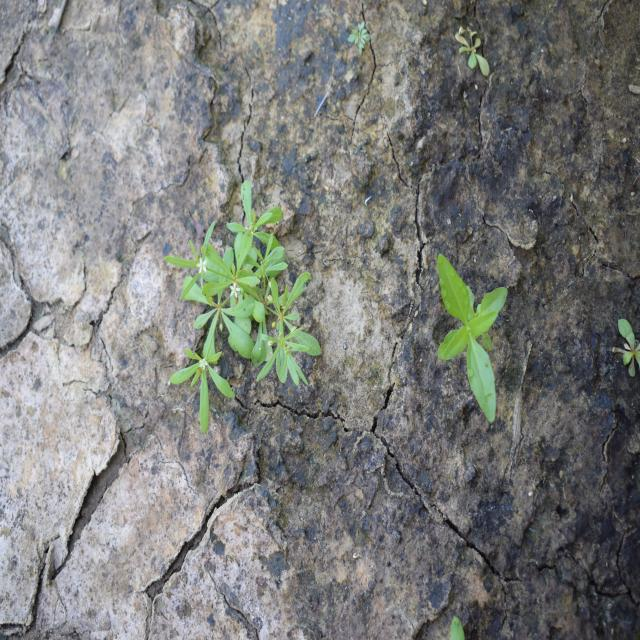Carpetweed: (162, 178, 323, 435), (454, 23, 491, 78), (612, 318, 639, 379)
Eclipta: (436, 252, 510, 425)
Ragweed: (346, 18, 372, 58)
